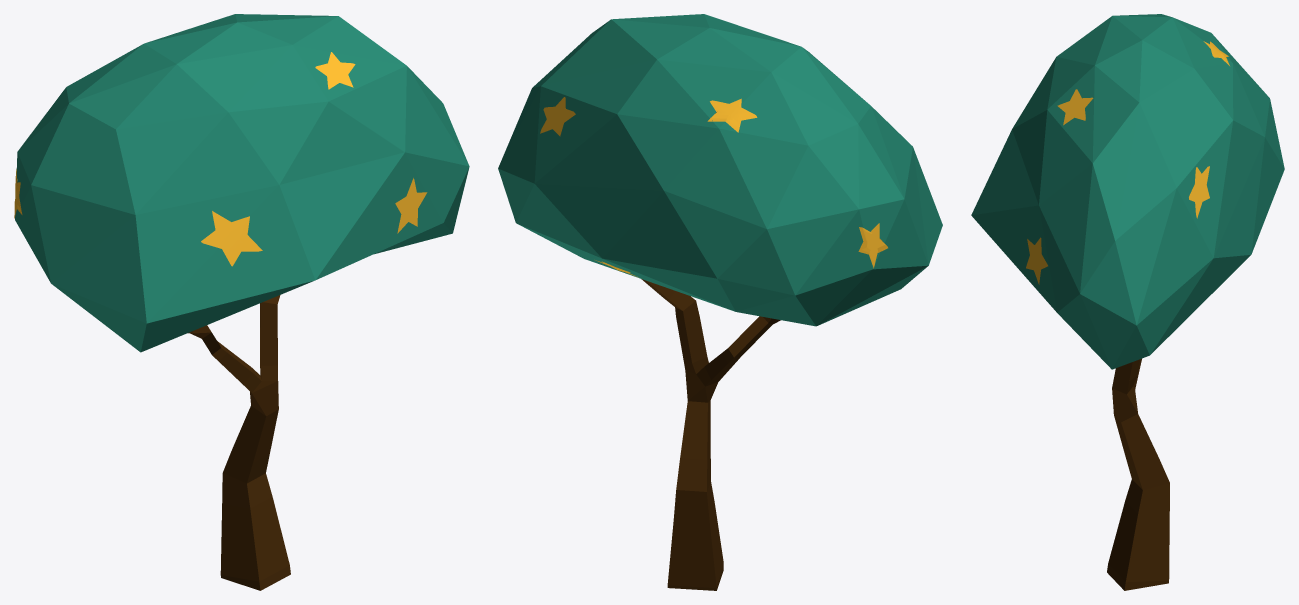
File: Tree_Basic_Stars_001.fbx
3 views of the same model, side by side, from view 1: azimuth 30°, elevation 25°; view 2: azimuth 150°, elevation 25°; view 3: azimuth 270°, elevation 25° (orthographic). The views are drawn at different scales.
Parts seen in each view (by area): view 1: Tree.001, Trash.Star.006, Trash.Star.004, Trash.Star.001; view 2: Tree.001, Trash.Star.002, Trash.Star.003, Trash.Star.005; view 3: Tree.001, Trash.Star.001, Trash.Star.003, Trash.Star.004.
Boxes of the visible parts, left/top/right/bottom form: Tree.001: left=15, top=14, right=469, bottom=590; Trash.Star.006: left=201, top=211, right=262, bottom=266; Trash.Star.004: left=395, top=178, right=427, bottom=233; Trash.Star.001: left=315, top=52, right=355, bottom=89; Tree.001: left=498, top=14, right=942, bottom=590; Trash.Star.002: left=707, top=98, right=757, bottom=132; Trash.Star.003: left=540, top=97, right=575, bottom=136; Trash.Star.005: left=858, top=223, right=887, bottom=268; Tree.001: left=971, top=14, right=1284, bottom=590; Trash.Star.001: left=1057, top=89, right=1093, bottom=125; Trash.Star.003: left=1189, top=166, right=1209, bottom=218; Trash.Star.004: left=1026, top=237, right=1047, bottom=284.
Size of the model in its own units: 588 by 750 by 402.
